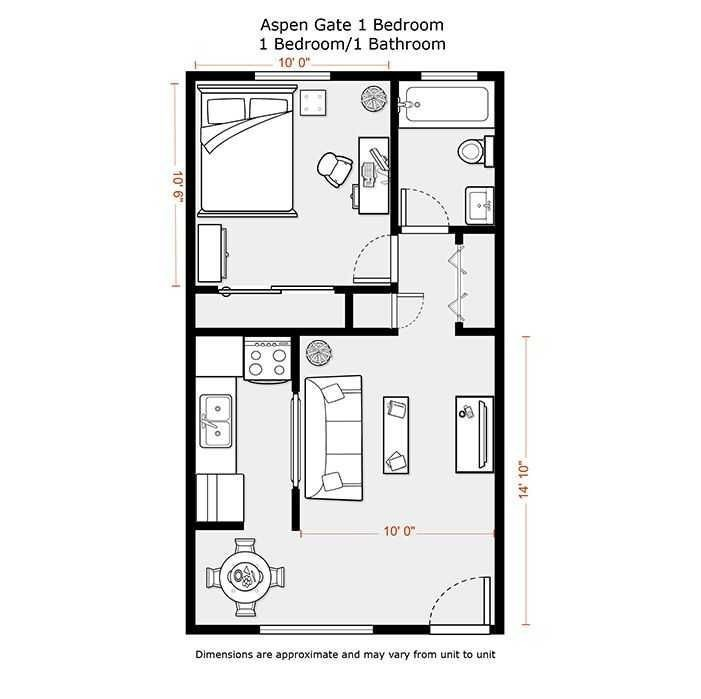door: (404, 554, 495, 626), (438, 240, 480, 325), (345, 232, 407, 289), (397, 171, 454, 232)
wall: (485, 61, 512, 643), (179, 69, 200, 642), (181, 319, 398, 340), (386, 67, 405, 240), (174, 612, 259, 647), (328, 70, 427, 88), (178, 64, 254, 86), (282, 326, 306, 395), (335, 282, 407, 305), (341, 283, 364, 345), (374, 618, 430, 643), (447, 221, 509, 243), (449, 322, 505, 343), (284, 488, 310, 533), (478, 63, 509, 88)
window: (260, 615, 375, 645), (255, 63, 329, 84), (422, 65, 478, 91)
